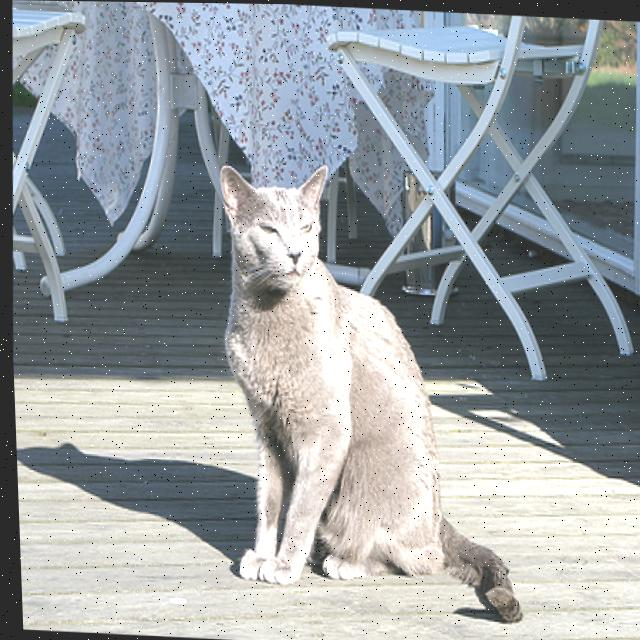Russian Blue: (197, 155, 535, 621)
